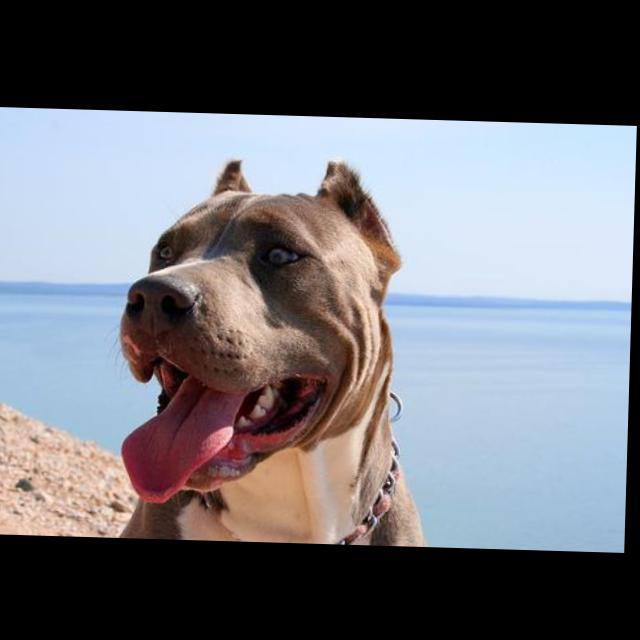amstaff: (113, 151, 444, 544)
